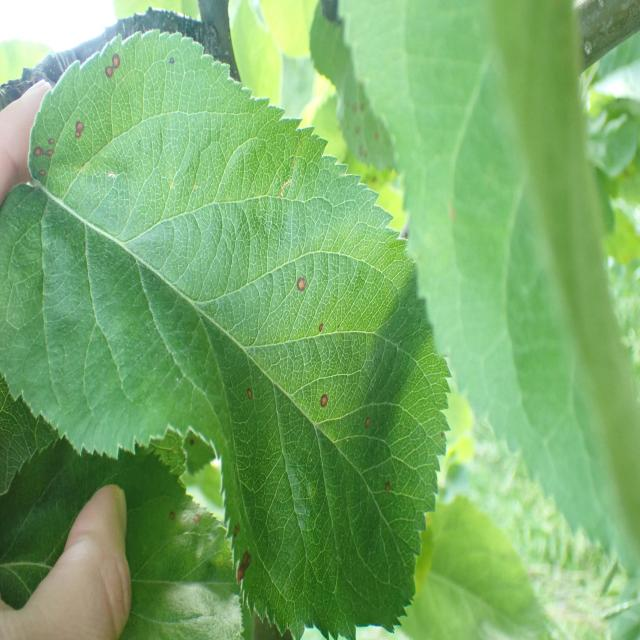Black Rot: (24, 130, 56, 178), (228, 547, 260, 587), (99, 46, 126, 83), (289, 271, 316, 308), (72, 113, 92, 158), (375, 472, 402, 504), (310, 386, 340, 414), (356, 403, 374, 444), (238, 384, 264, 411)
